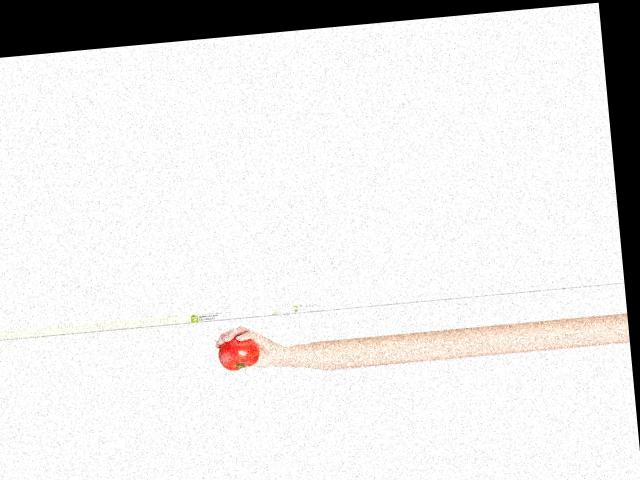tomato: (217, 334, 262, 372)
